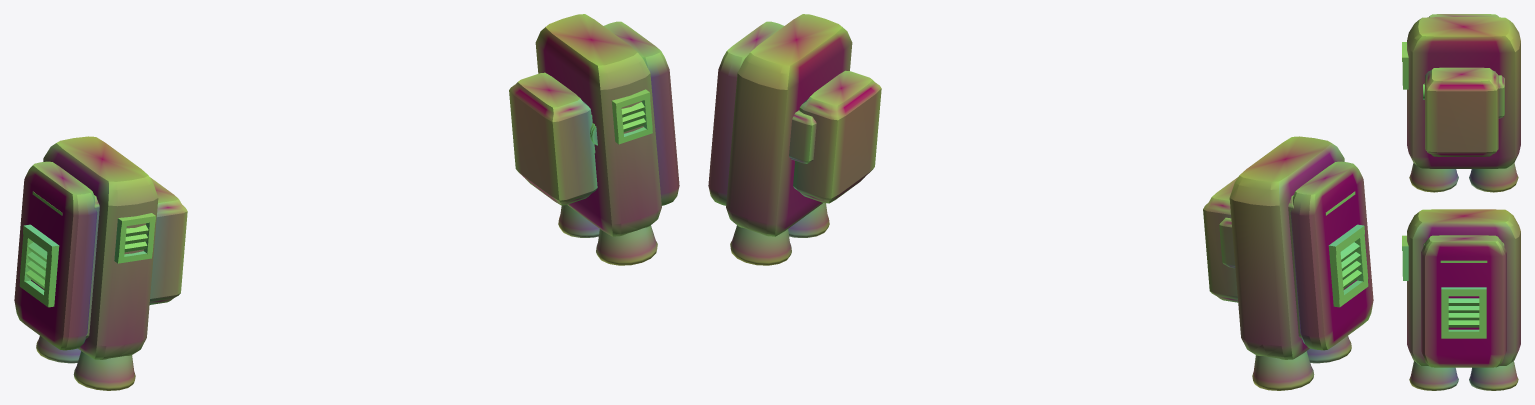
The model's file is llm_gen_leg_thrusters_104_b7aaaf.glb.
3 views of the same model, side by side, from view 1: azimuth 30°, elevation 25°; view 2: azimuth 150°, elevation 25°; view 3: azimuth 270°, elevation 25° (orthographic). The views are drawn at different scales.
Parts seen in each view (by area): view 1: greave_pylon_0_cobalt_anodized_r, greave_pylon_0_cobalt_anodized_l, lateral_binder_shroud_2_adapter_dark_l, adapter_calf_clamp_r, lateral_binder_shroud_2_adapter_dark_r, adapter_calf_clamp_l, ankle_vector_bell_b_7_vernier_bell_vernier_l, ankle_vector_bell_b_7_vernier_bell_vernier_r, adapter_sub_binder_side_vent_3_dark_l, adapter_sub_greave_intake_grille_5_dark_r, adapter_sub_greave_intake_grille_5_dark_l, ankle_vector_bell_a_6_vernier_bell_vernier_r (+2 smaller); view 2: greave_pylon_0_cobalt_anodized_r, greave_pylon_0_cobalt_anodized_l, lateral_binder_shroud_2_adapter_dark_l, adapter_calf_clamp_r, lateral_binder_shroud_2_adapter_dark_r, adapter_calf_clamp_l, ankle_vector_bell_a_6_vernier_bell_vernier_l, ankle_vector_bell_a_6_vernier_bell_vernier_r, adapter_sub_binder_side_vent_3_dark_l, adapter_leg_tank_collar_dark_8_adapter_dark_r, ankle_vector_bell_b_7_vernier_bell_vernier_r, binder_side_vent_3_gold_l (+2 smaller); view 3: greave_pylon_0_cobalt_anodized_l, lateral_binder_shroud_2_adapter_dark_r, adapter_calf_clamp_l, greave_pylon_0_cobalt_anodized_r, adapter_sub_binder_side_vent_3_dark_r, ankle_vector_bell_a_6_vernier_bell_vernier_r, ankle_vector_bell_b_7_vernier_bell_vernier_r, ankle_vector_bell_a_6_vernier_bell_vernier_l, ankle_vector_bell_b_7_vernier_bell_vernier_l, binder_side_vent_3_gold_r, adapter_sub_greave_intake_grille_5_dark_l, adapter_sub_greave_intake_grille_5_dark_r (+3 smaller).
Part boxes in pixels (left/top/right/bottom): greave_pylon_0_cobalt_anodized_r: left=535, top=14, right=661, bottom=236; greave_pylon_0_cobalt_anodized_l: left=43, top=136, right=158, bottom=359; lateral_binder_shroud_2_adapter_dark_l: left=14, top=161, right=97, bottom=350; adapter_calf_clamp_r: left=509, top=72, right=597, bottom=205; lateral_binder_shroud_2_adapter_dark_r: left=604, top=21, right=679, bottom=205; adapter_calf_clamp_l: left=149, top=177, right=187, bottom=304; ankle_vector_bell_b_7_vernier_bell_vernier_l: left=73, top=351, right=135, bottom=390; ankle_vector_bell_b_7_vernier_bell_vernier_r: left=596, top=225, right=657, bottom=265; adapter_sub_binder_side_vent_3_dark_l: left=19, top=224, right=59, bottom=307; adapter_sub_greave_intake_grille_5_dark_r: left=611, top=89, right=652, bottom=144; adapter_sub_greave_intake_grille_5_dark_l: left=114, top=213, right=155, bottom=263; ankle_vector_bell_a_6_vernier_bell_vernier_r: left=558, top=205, right=599, bottom=237; greave_pylon_0_cobalt_anodized_r: left=726, top=14, right=852, bottom=236; greave_pylon_0_cobalt_anodized_l: left=1229, top=136, right=1344, bottom=359; lateral_binder_shroud_2_adapter_dark_l: left=1290, top=161, right=1373, bottom=350; adapter_calf_clamp_r: left=793, top=70, right=881, bottom=203; lateral_binder_shroud_2_adapter_dark_r: left=708, top=21, right=783, bottom=205; adapter_calf_clamp_l: left=1203, top=177, right=1238, bottom=302; ankle_vector_bell_a_6_vernier_bell_vernier_l: left=1252, top=351, right=1314, bottom=390; ankle_vector_bell_a_6_vernier_bell_vernier_r: left=730, top=225, right=791, bottom=265; adapter_sub_binder_side_vent_3_dark_l: left=1328, top=224, right=1368, bottom=307; adapter_leg_tank_collar_dark_8_adapter_dark_r: left=789, top=110, right=816, bottom=163; ankle_vector_bell_b_7_vernier_bell_vernier_r: left=788, top=203, right=829, bottom=237; binder_side_vent_3_gold_l: left=1340, top=242, right=1361, bottom=288; greave_pylon_0_cobalt_anodized_l: left=1407, top=17, right=1520, bottom=168; lateral_binder_shroud_2_adapter_dark_r: left=1421, top=235, right=1506, bottom=367; adapter_calf_clamp_l: left=1425, top=67, right=1498, bottom=156; greave_pylon_0_cobalt_anodized_r: left=1407, top=209, right=1520, bottom=365; adapter_sub_binder_side_vent_3_dark_r: left=1441, top=287, right=1486, bottom=338; ankle_vector_bell_a_6_vernier_bell_vernier_r: left=1469, top=361, right=1518, bottom=390; ankle_vector_bell_b_7_vernier_bell_vernier_r: left=1409, top=361, right=1458, bottom=390; ankle_vector_bell_a_6_vernier_bell_vernier_l: left=1469, top=163, right=1518, bottom=192; ankle_vector_bell_b_7_vernier_bell_vernier_l: left=1409, top=163, right=1458, bottom=192; binder_side_vent_3_gold_r: left=1448, top=298, right=1479, bottom=327; adapter_sub_greave_intake_grille_5_dark_l: left=1402, top=42, right=1408, bottom=89; adapter_sub_greave_intake_grille_5_dark_r: left=1402, top=235, right=1408, bottom=280.
Size of the model in its own units: 85.53 by 26.95 by 17.74.
